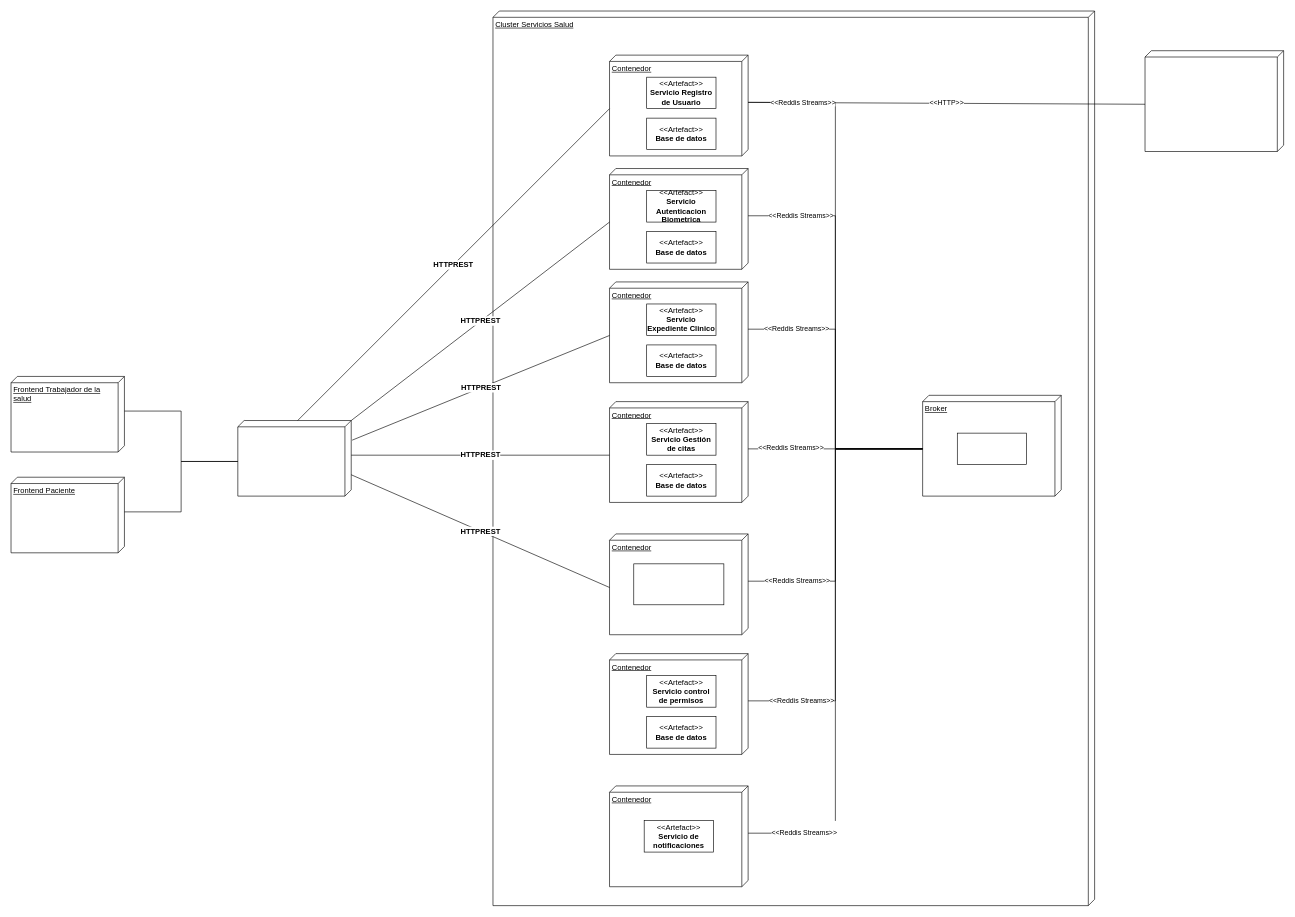
Image size: 1295x917. Some labels were removed from this diagram. Each missing label, with the centre of its shape:
<<Artefact>> RedisMQ: point 992,448
<<Artefact>> Servicio Almacenamiento de documentos medicos: point 678,584
API Geteway: point 294,458
Servicio Nacional de profecionales: point 1214,101
